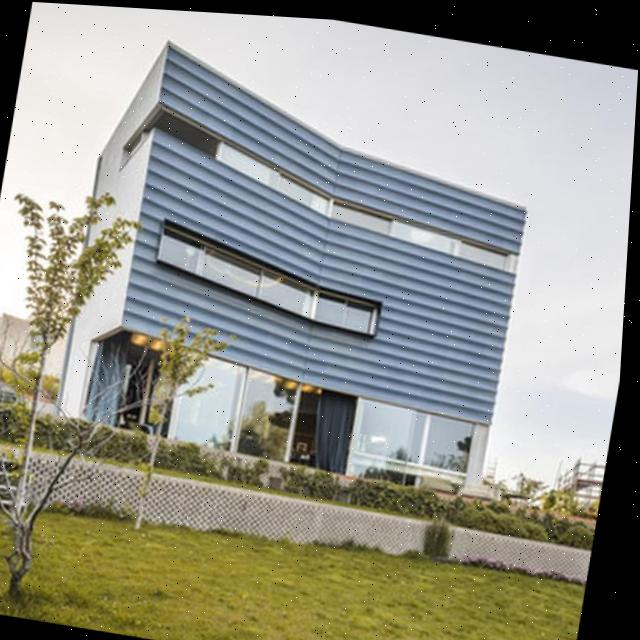building: (47, 23, 554, 498)
